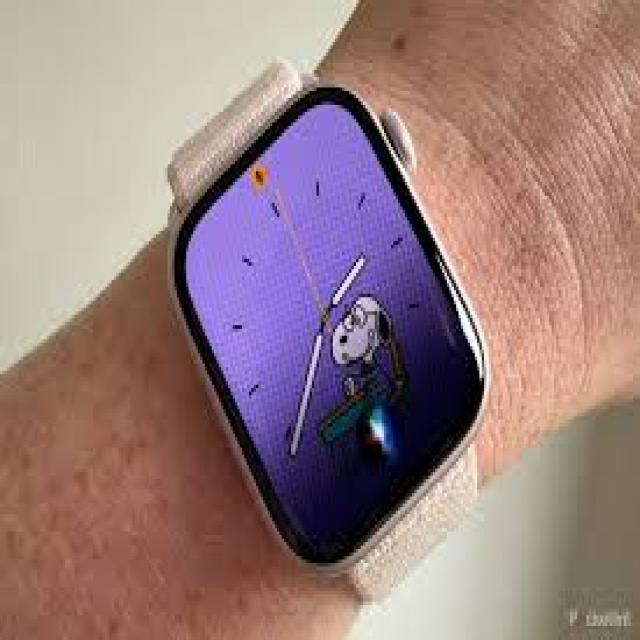objects: (161, 55, 486, 608)
